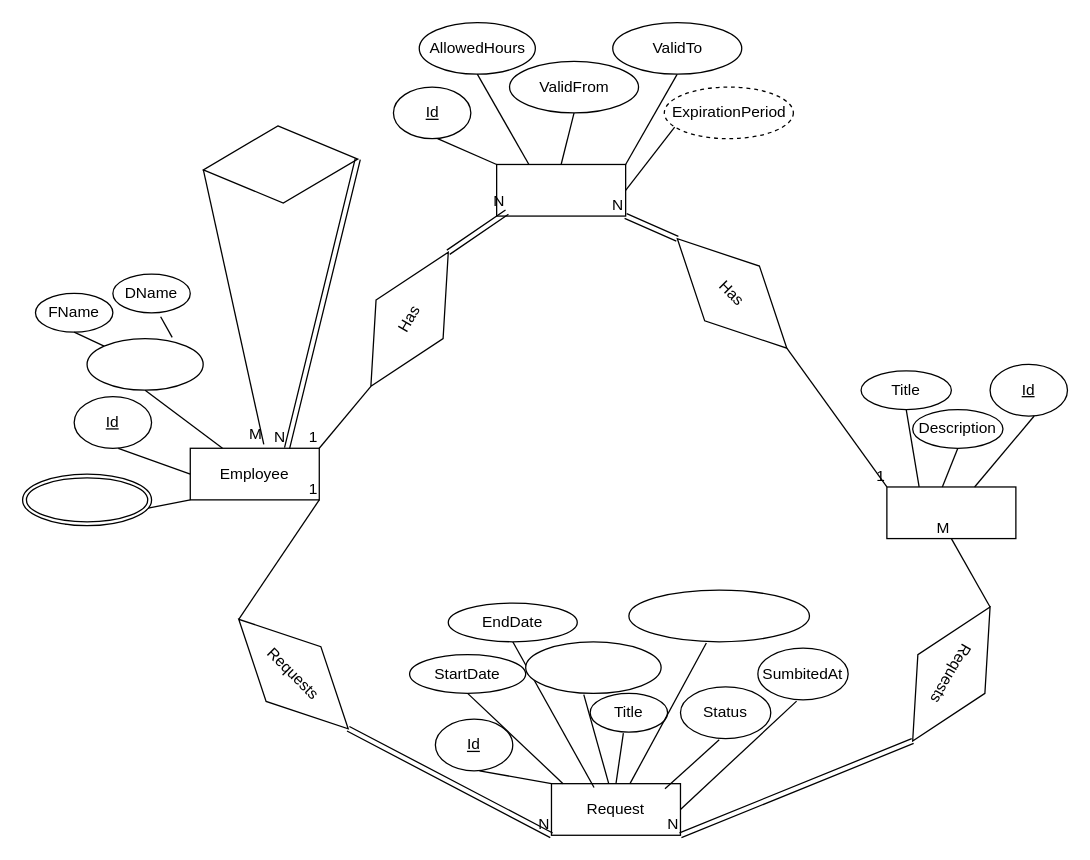
Image size: 1090x860. Some labels were removed from this diagram. Here are the shapes that lost their labels. From the top down, the centre of each, then its label:
At pixel 280 164: "Manage".
At pixel 560 189: "Grant".
At pixel 144 363: "FullName".
At pixel 86 499: "WorkLocations".
At pixel 951 512: "VacationCategory".
At pixel 718 615: "RequesterDescription".
At pixel 592 666: "HoursPerDay".
